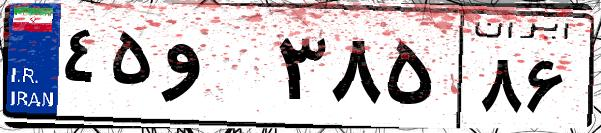3: (270, 28, 330, 110)
4: (57, 26, 110, 100)
5: (385, 28, 445, 110), (110, 28, 158, 98)
6: (525, 38, 570, 115)
8: (330, 28, 385, 110), (475, 38, 525, 113)
و: (158, 20, 270, 120)
